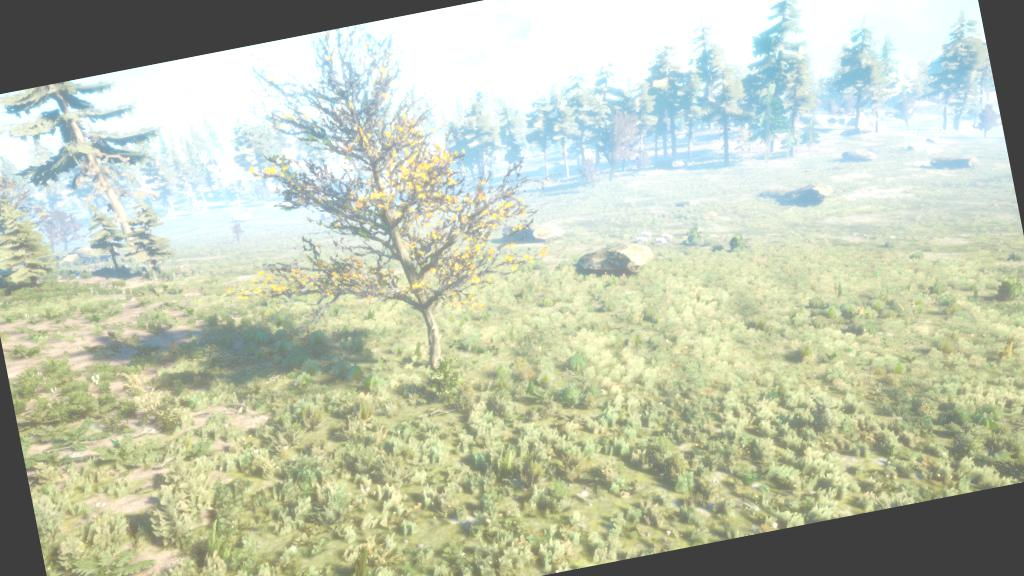pig: (654, 236, 668, 246), (638, 230, 652, 238), (658, 232, 672, 240), (634, 236, 646, 244)
